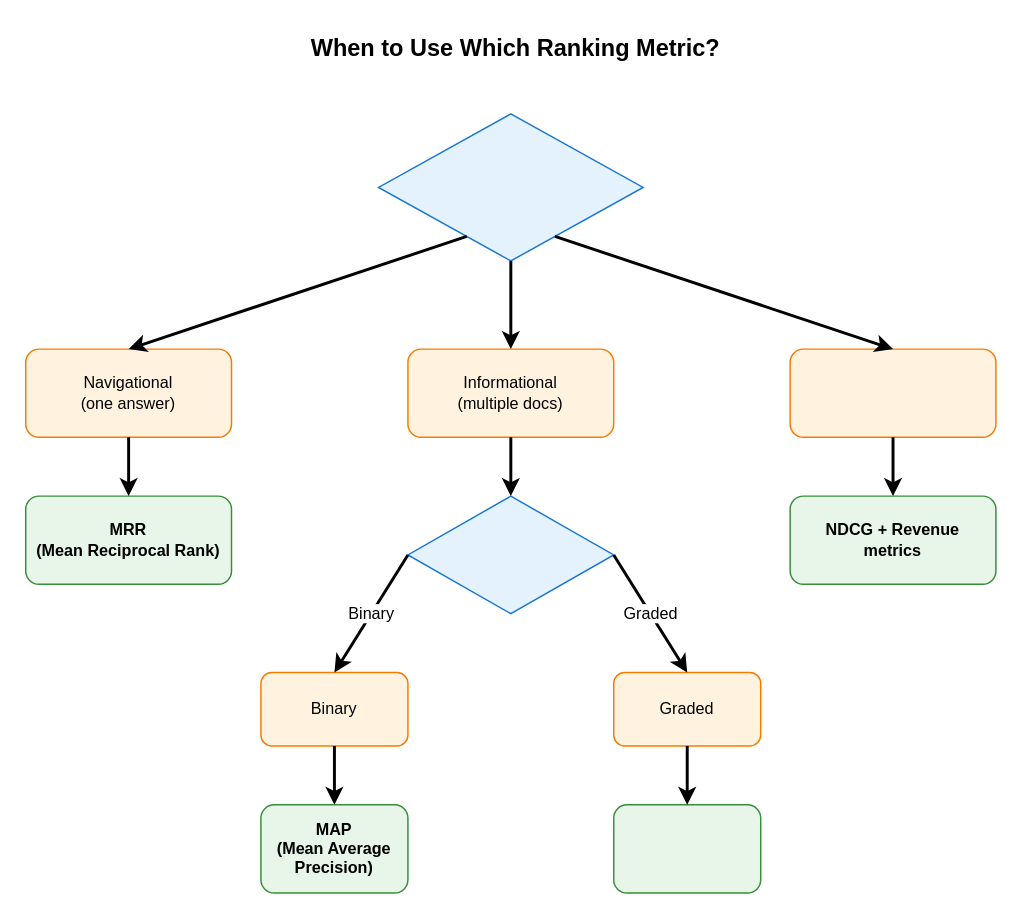
The diagram is 1022 pixels wide and 919 high, and some of its shapes have lost their labels. Each missing label, with the centre of its shape:
E-commerce: [892,392]
NDCG (Normalized DCG): [686,848]
Relevance type?: [510,554]
What type of query?: [510,186]
